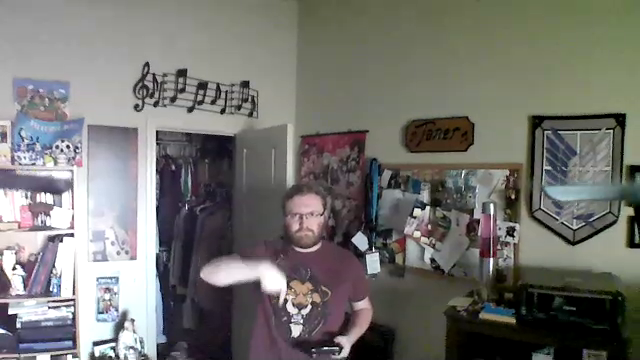down: (255, 258, 288, 309)
